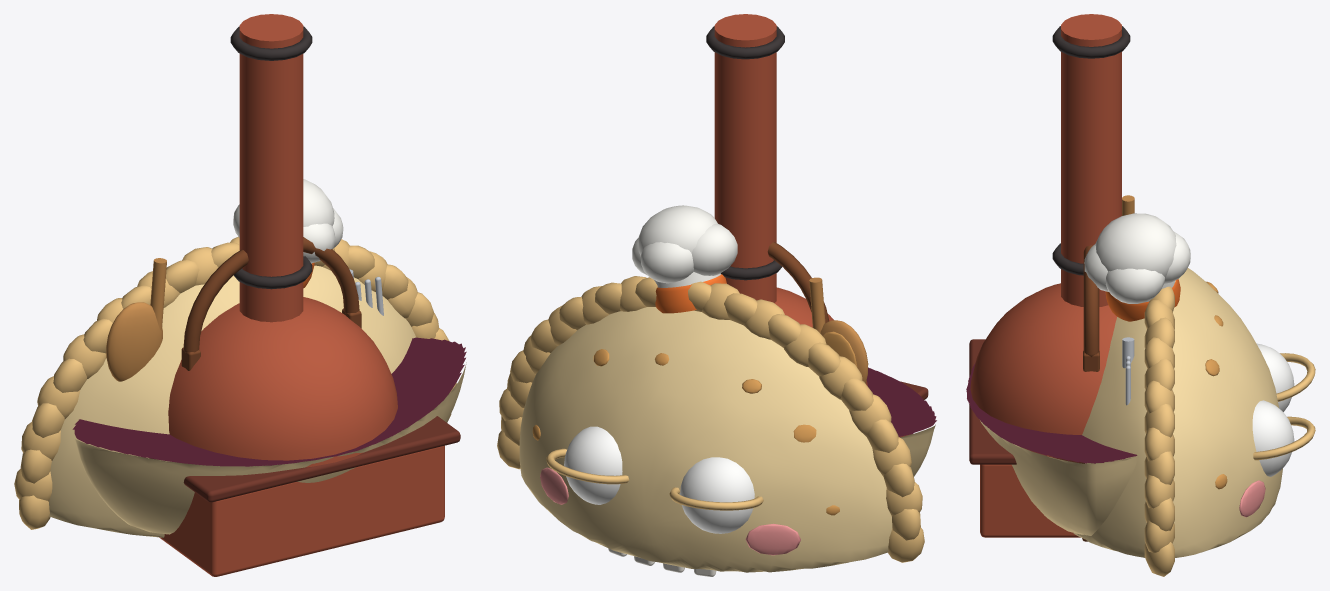
Rendered from menu.glb.
3 views of the same model, side by side, from view 1: azimuth 30°, elevation 25°; view 2: azimuth 150°, elevation 25°; view 3: azimuth 270°, elevation 25° (orthographic). The views are drawn at different scales.
Parts seen in each view (by area): view 1: room_oven, mon_head, mon_base, mon_arm_sr, room_window; view 2: mon_head, room_oven, mon_base, mon_arm_sr, room_window; view 3: mon_head, room_oven, mon_base, room_window, mon_arm_sl.
Boxes of the visible parts, box(x1,y1,x2,y2) form: room_oven: box(149, 14, 460, 576); mon_head: box(14, 179, 456, 537); mon_base: box(72, 337, 466, 534); mon_arm_sr: box(106, 258, 166, 381); room_window: box(181, 237, 361, 370); mon_head: box(497, 205, 924, 576); room_oven: box(706, 14, 928, 436); mon_base: box(866, 367, 936, 476); mon_arm_sr: box(809, 277, 868, 383); room_window: box(767, 242, 829, 322); mon_head: box(1073, 213, 1315, 576); room_oven: box(969, 14, 1130, 537); mon_base: box(966, 363, 1139, 535); room_window: box(1082, 245, 1099, 541); mon_arm_sl: box(1122, 337, 1134, 405).
Size of the model in its own units: 5.58 by 6.32 by 4.08.
